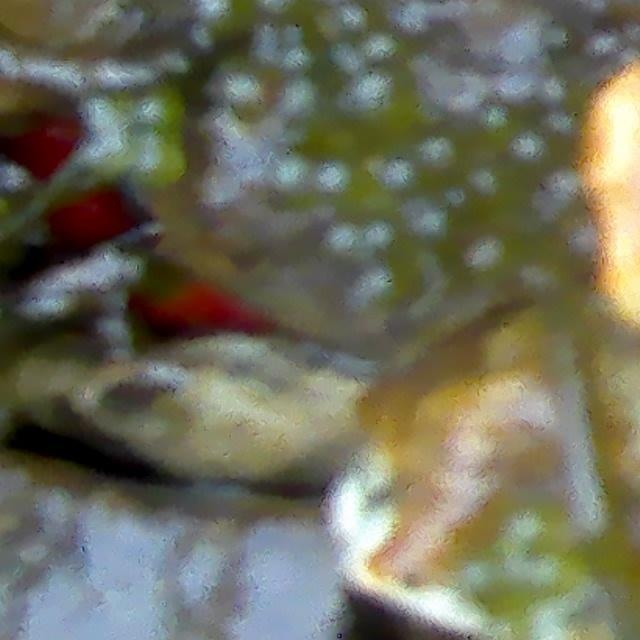SeaGrape: (124, 130, 188, 194), (213, 68, 278, 127)
